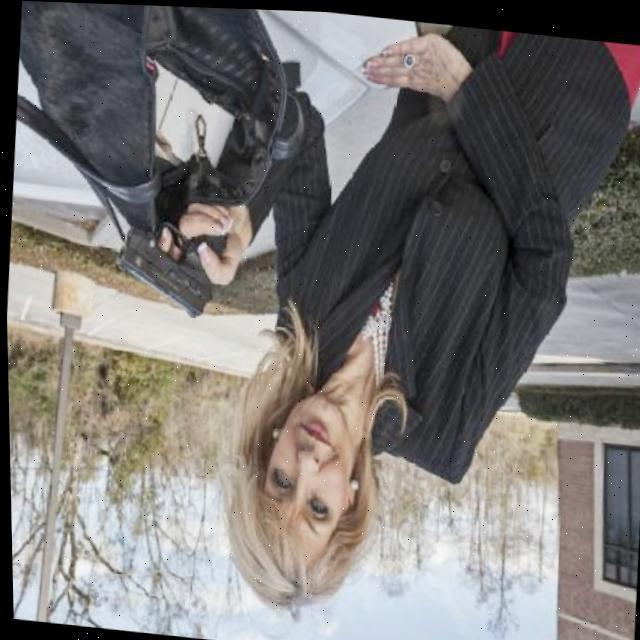gun: (110, 216, 228, 326)
